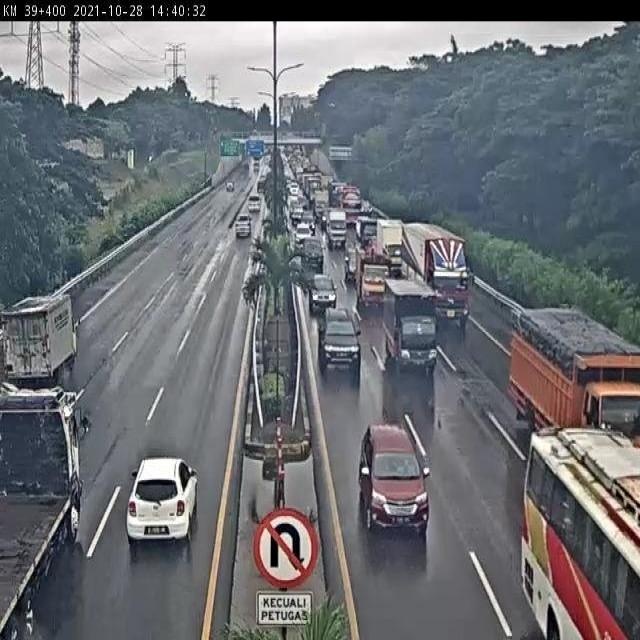car: (357, 420, 431, 532), (124, 459, 200, 541), (317, 307, 357, 368), (309, 274, 337, 314), (301, 238, 324, 270)
small truck: (376, 211, 402, 273)
truck-l-: (507, 308, 640, 453), (401, 222, 471, 326)
truck-m-: (2, 290, 81, 390), (384, 277, 437, 371), (354, 250, 388, 310)
